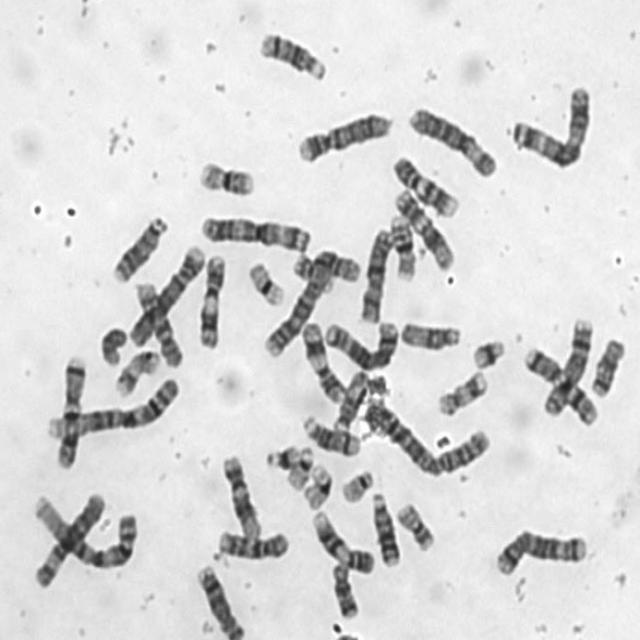A1: (43, 373, 181, 440), (29, 490, 140, 570)
A2: (260, 244, 362, 359), (362, 397, 491, 478)
A3: (509, 81, 592, 171), (196, 210, 313, 254)
B4: (125, 241, 207, 348), (293, 106, 394, 166)
B5: (492, 524, 590, 576), (322, 315, 400, 372)
C10: (131, 278, 184, 368), (213, 527, 291, 562)
C11: (299, 317, 346, 404), (195, 251, 228, 350)
C12: (392, 185, 455, 271), (219, 452, 262, 540)
C6: (30, 488, 107, 590), (405, 102, 499, 180)
C7: (521, 342, 598, 427), (54, 350, 88, 476)
C8: (540, 312, 595, 418), (193, 560, 247, 639)
C9: (389, 149, 460, 219), (309, 506, 375, 574)
D13: (109, 211, 169, 285), (367, 489, 400, 567)
D14: (255, 28, 329, 84), (300, 411, 361, 458)
D15: (329, 368, 369, 436), (398, 316, 463, 354)
E16: (194, 156, 256, 198), (386, 210, 417, 283)
E17: (434, 365, 490, 418), (111, 346, 161, 399)
E18: (586, 334, 626, 400), (329, 559, 360, 621)
F19: (245, 257, 286, 308), (300, 461, 335, 511)
F20: (393, 499, 437, 552), (290, 250, 336, 298)
G21: (469, 334, 507, 371), (262, 440, 301, 472)
G22: (283, 444, 315, 492), (337, 466, 376, 504)
X: (356, 224, 394, 326)
Y: (96, 322, 128, 367)
